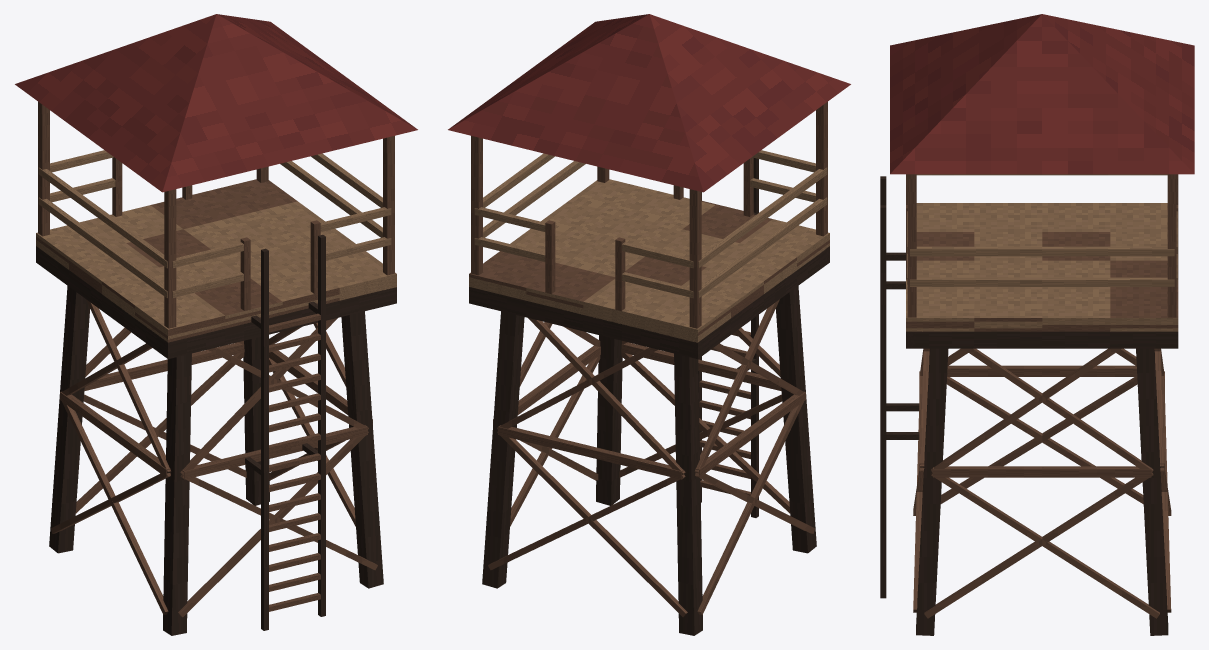
Rendered from watchtower.glb.
3 views of the same model, side by side, from view 1: azimuth 30°, elevation 25°; view 2: azimuth 150°, elevation 25°; view 3: azimuth 270°, elevation 25° (orthographic). The views are drawn at different scales.
Visible parts, largest first — view 1: watchtower; view 2: watchtower; view 3: watchtower.
Boxes of the visible parts, x1=… form: watchtower: x1=15, y1=14, x2=417, y2=635; watchtower: x1=448, y1=14, x2=850, y2=635; watchtower: x1=880, y1=14, x2=1194, y2=635.
Bounding box in the file's own units: 4.03 × 8.31 × 4.16.
1 material, 1 textured.
